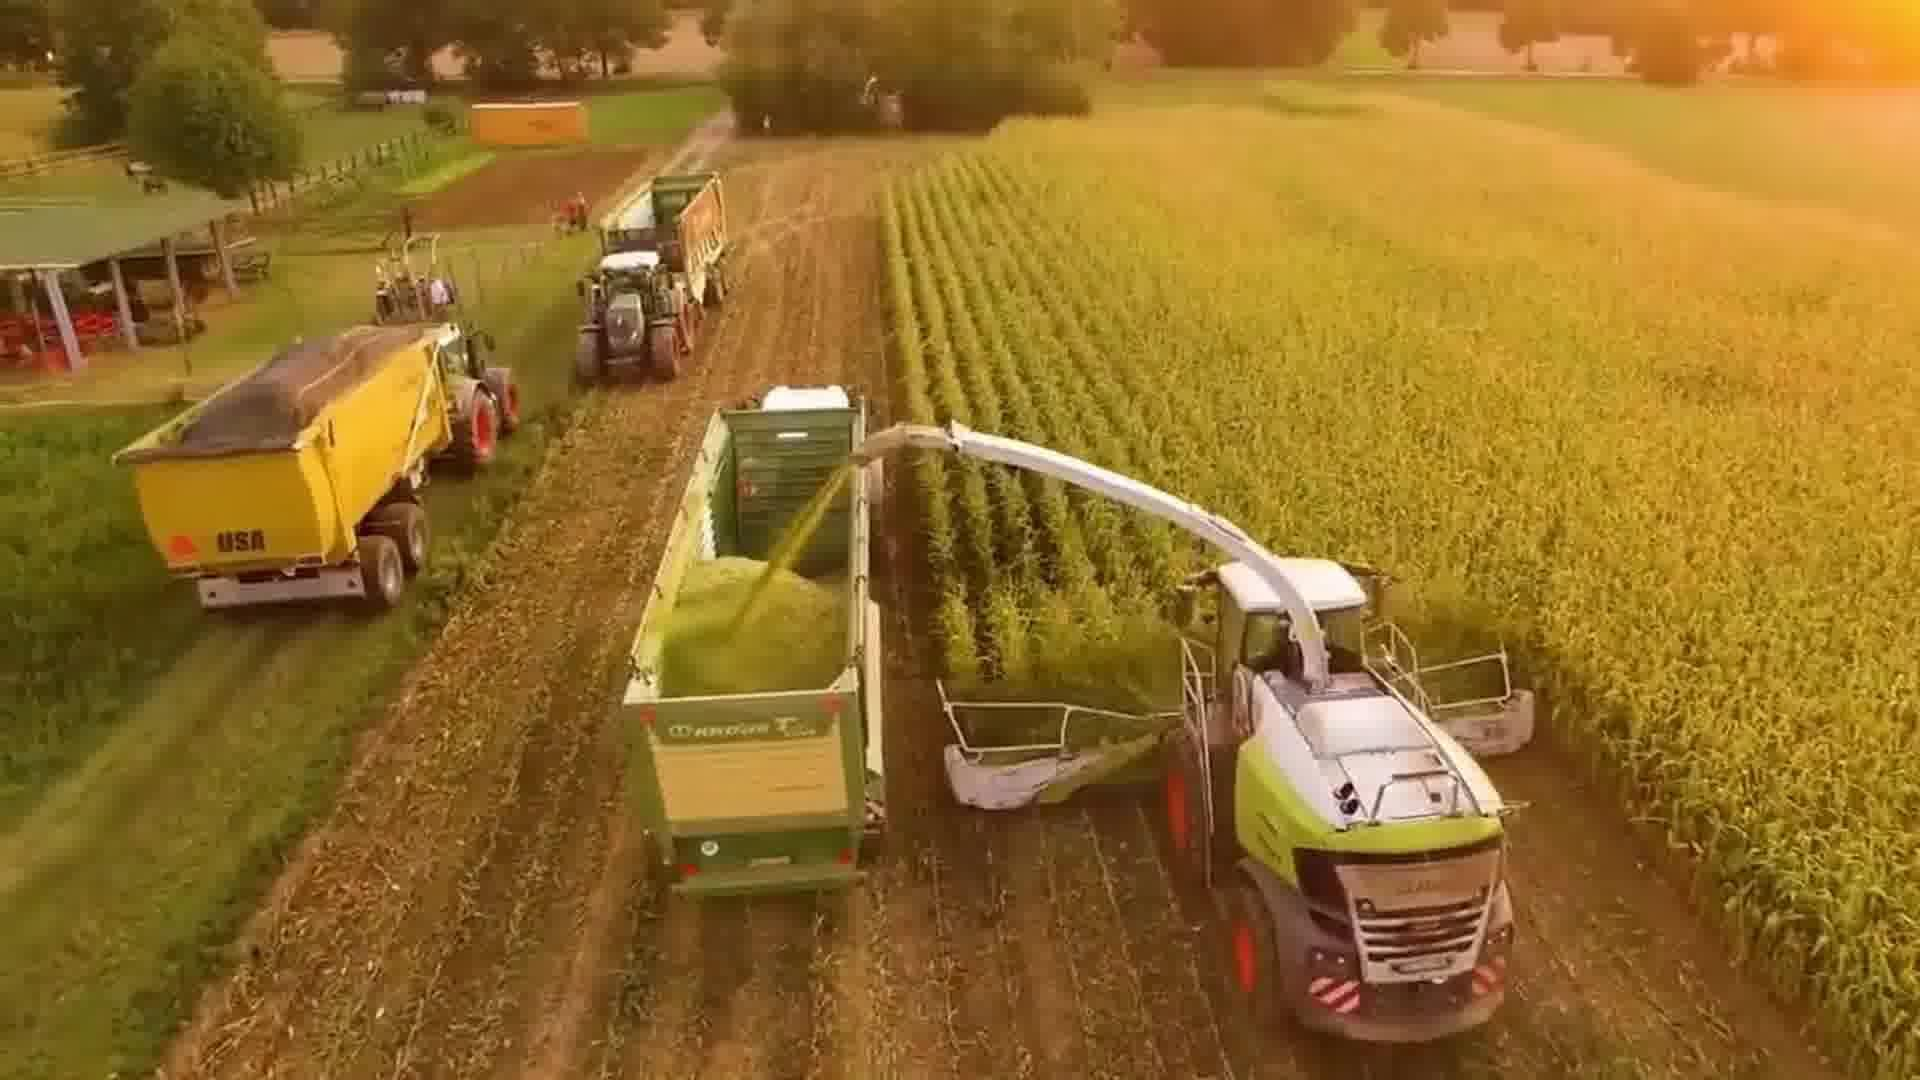combine harvester: (847, 400, 1541, 1064)
tractor: (570, 250, 699, 384), (426, 314, 526, 471), (746, 369, 880, 426)
trailer: (617, 400, 889, 907), (100, 320, 460, 617), (594, 166, 736, 313)
